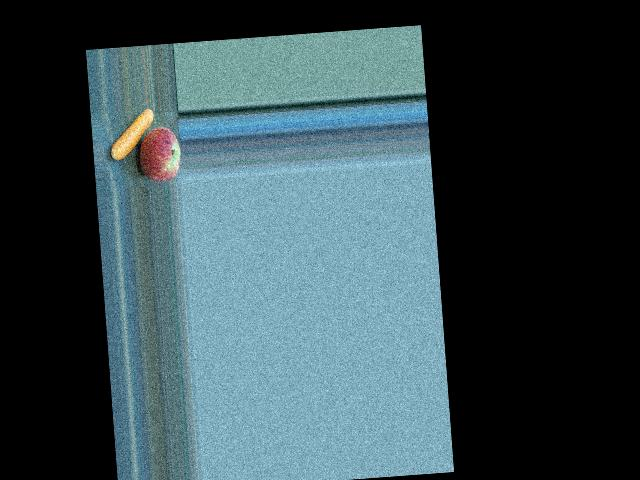carrot: (106, 108, 159, 167)
